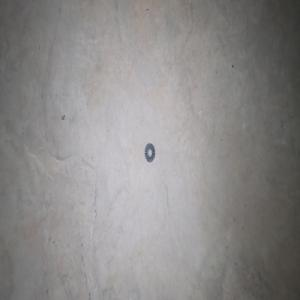Washer: (144, 143, 155, 162)
